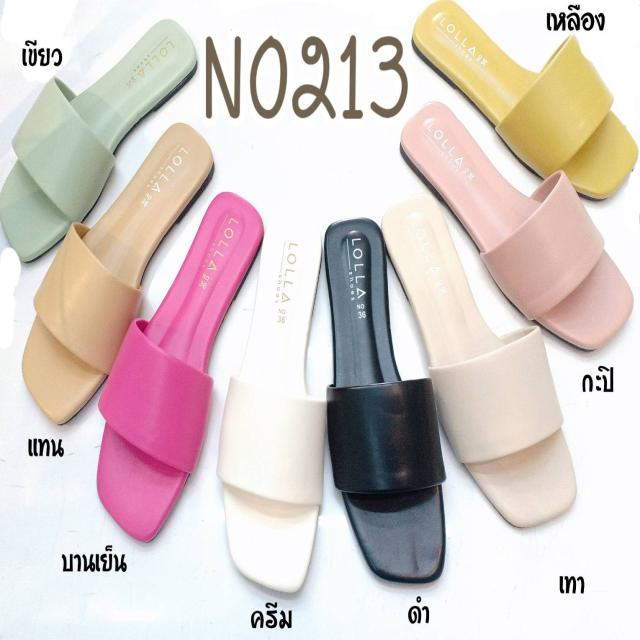banyen: (99, 193, 262, 540)
black: (322, 223, 452, 587)
cream: (216, 216, 325, 588)
green: (0, 14, 199, 252)
grey: (385, 195, 576, 528)
kapi: (399, 105, 635, 350)
tan: (19, 118, 214, 420)
yellow: (412, 0, 640, 203)
